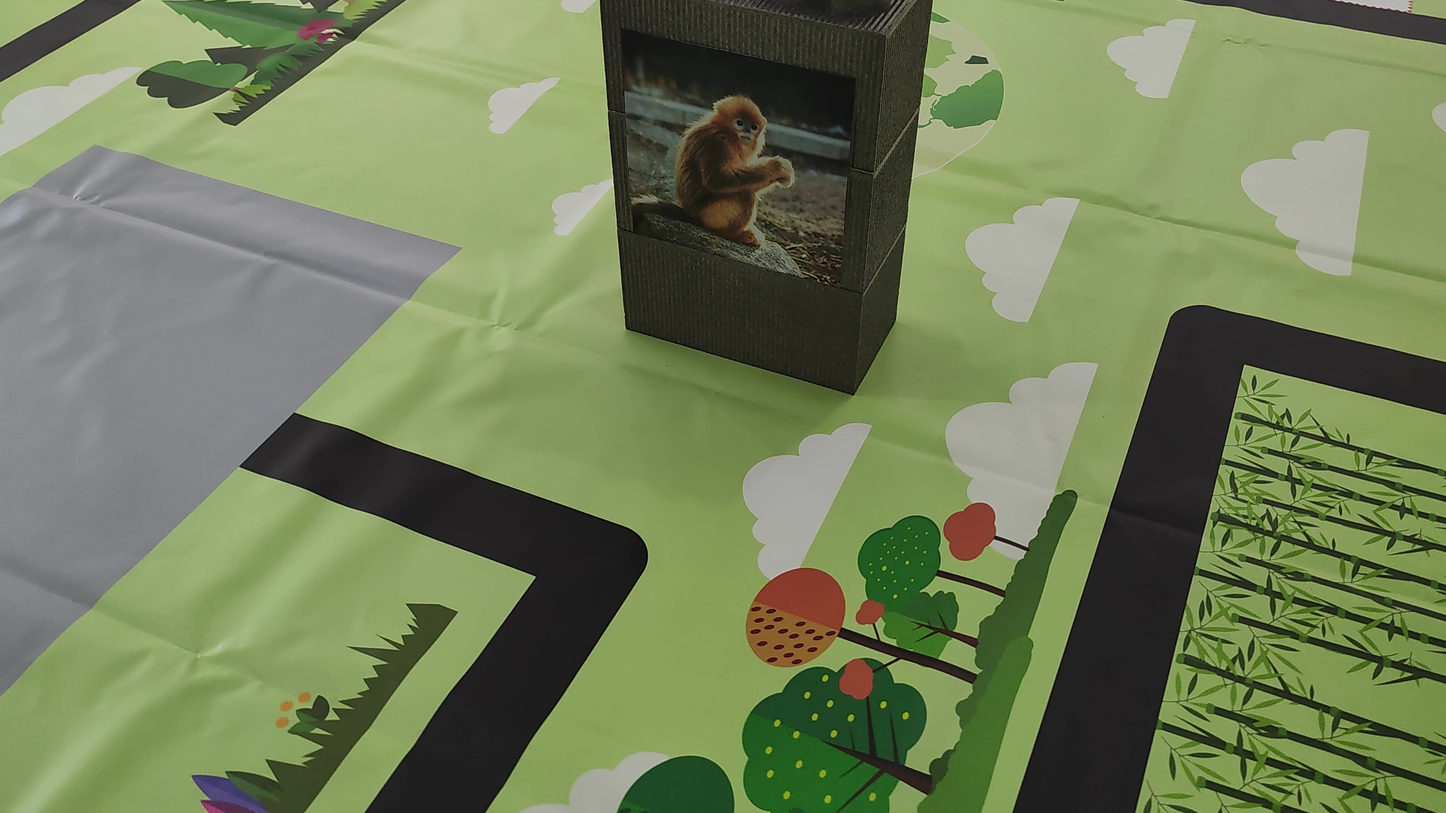monkey: (630, 56, 820, 248)
